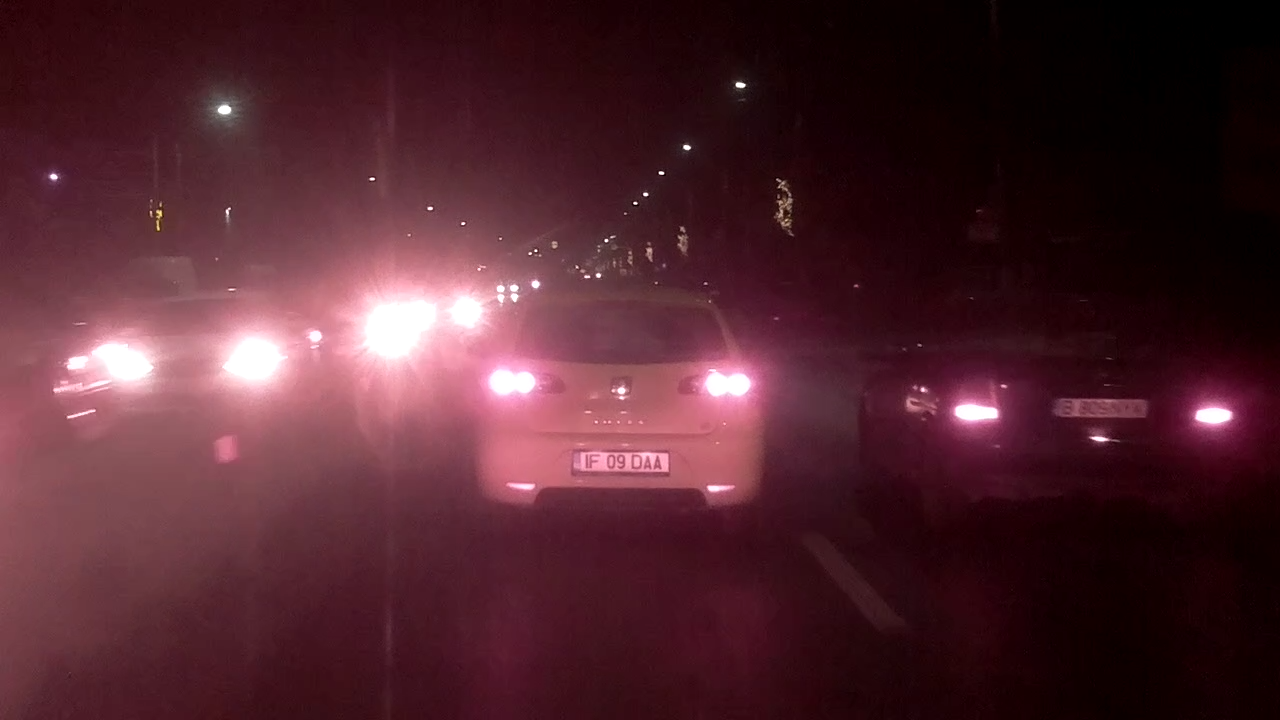license-plate: (566, 447, 675, 477)
